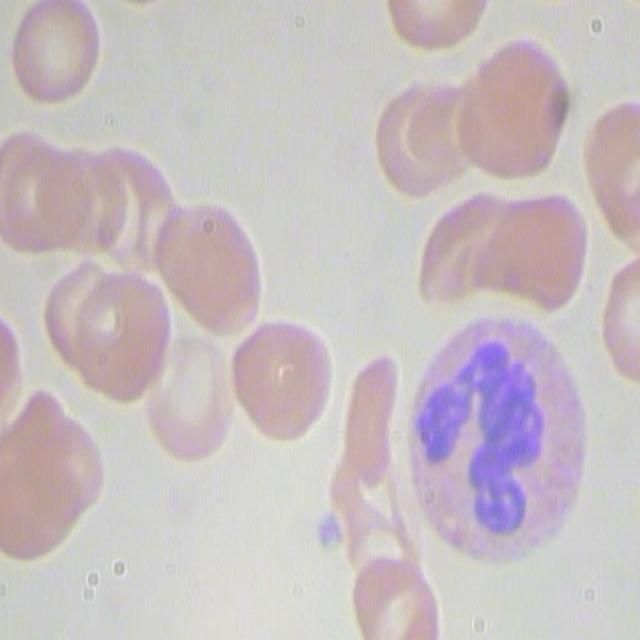RBC: (42, 255, 168, 412), (451, 30, 572, 182), (0, 390, 98, 558), (472, 187, 590, 319), (161, 202, 265, 346), (67, 142, 176, 268), (229, 313, 335, 437), (373, 74, 467, 202), (144, 331, 229, 459), (5, 2, 103, 109), (349, 542, 446, 638), (587, 96, 640, 244), (356, 359, 400, 515), (381, 0, 493, 52), (602, 249, 640, 385)
WBC: (403, 308, 584, 578)
platelets: (309, 511, 348, 557)
